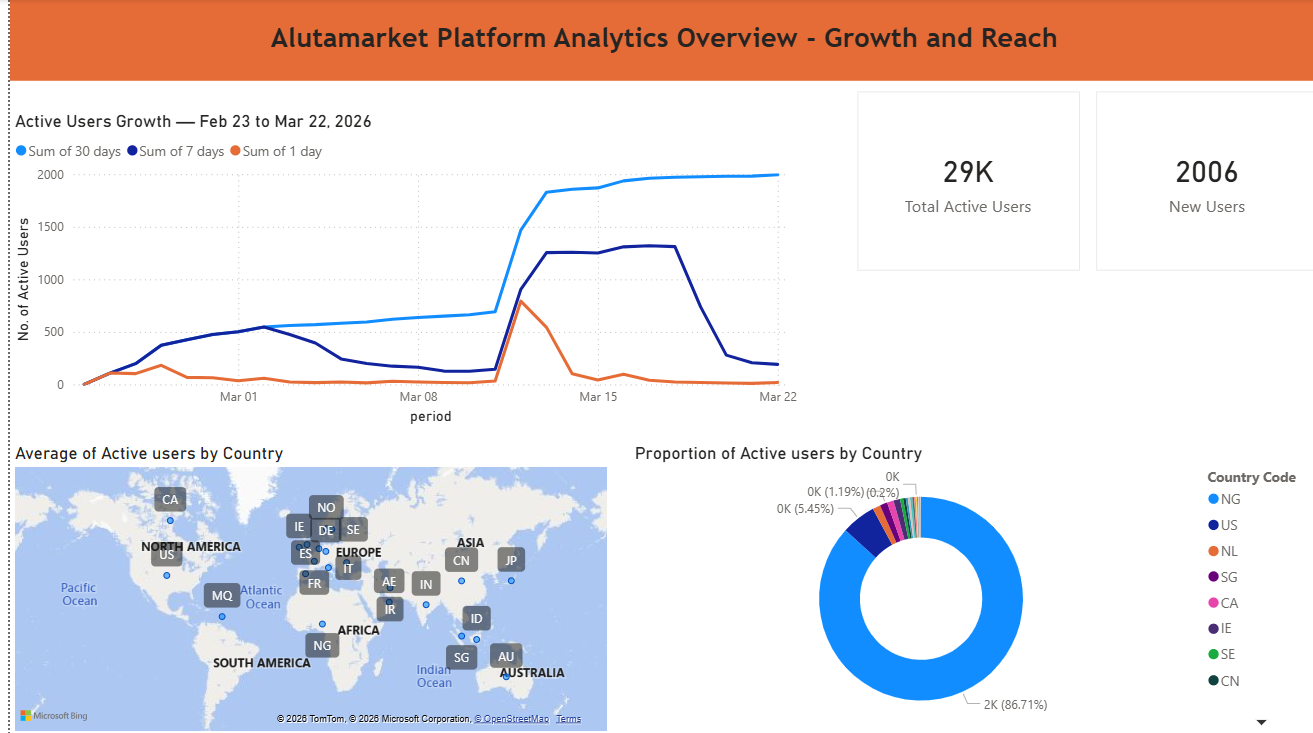

Layout of this report page (visuals, bound fields, positions):
{"tool":"powerbi","page":{"name":"Page 1","canvas":[1280,720],"ordinal":0},"visuals":[{"type":"textbox","box":[0,391.5,211,217],"z":0},{"type":"textbox","box":[0,0,1280.3,79.7],"z":1000},{"type":"card","fields":{"Values":["Sum(Active_Users.30 days)"]},"box":[818.4,79.7,239,141.8],"z":2000},{"type":"card","fields":{"Values":["Sum(events.first_visit)"]},"box":[1057.4,79.7,222.8,141.8],"z":3000},{"type":"lineChart","title":"Active Users Growth — Feb 23 to Mar 22, 2026","fields":{"Y":["Sum(Active_Users.30 days)","Sum(Active_Users.7 days)","Sum(Active_Users.1 day)"],"Category":["Active_Users.Date.Variation.Date Hierarchy.Year","Active_Users.Date.Variation.Date Hierarchy.Quarter","Active_Users.Date.Variation.Date Hierarchy.Month","Active_Users.Date.Variation.Date Hierarchy.Day"]},"box":[0,109.4,775.2,312],"z":4000},{"type":"map","title":"Average of Active users by Country ","fields":{"Category":["geography.Country Code"],"Y":["Avg(geography.Active users)"]},"box":[0,433.5,588.8,286.3],"z":5000},{"type":"donutChart","title":"Proportion of Active users by Country","fields":{"Y":["Sum(geography.Active users)"],"Category":["geography.Country Code"]},"box":[606.4,433.5,673.9,286.3],"z":6000}]}

Visuals, with their boxes in screenshot pixels (x1, y1, x2, y2), scaled from the page's 1280x720 canvas onto the 1313x733 screenshot:
textbox: crop(0, 399, 216, 619)
textbox: crop(0, 0, 1312, 81)
card - Sum(Active_Users.30 days): crop(839, 81, 1085, 225)
card - Sum(events.first_visit): crop(1085, 81, 1312, 225)
"Active Users Growth — Feb 23 to Mar 22, 2026" lineChart: crop(0, 111, 795, 429)
"Average of Active users by Country " map: crop(0, 441, 604, 732)
"Proportion of Active users by Country" donutChart: crop(622, 441, 1312, 732)
